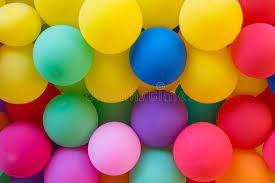Balloon: (33, 25, 92, 87), (174, 122, 233, 183), (78, 1, 142, 53), (130, 27, 186, 86), (216, 96, 275, 151), (178, 1, 242, 51), (132, 91, 187, 148), (43, 93, 98, 147), (87, 122, 140, 177), (1, 121, 52, 178), (233, 23, 275, 78), (45, 146, 98, 183), (1, 4, 40, 46)
